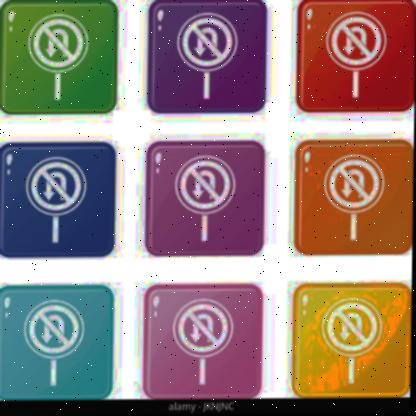No U-turn: (168, 293, 238, 365), (171, 8, 241, 78), (318, 148, 388, 217), (170, 152, 242, 214), (322, 10, 390, 73), (26, 12, 93, 75), (26, 294, 89, 359), (27, 158, 96, 215), (328, 300, 389, 358)
